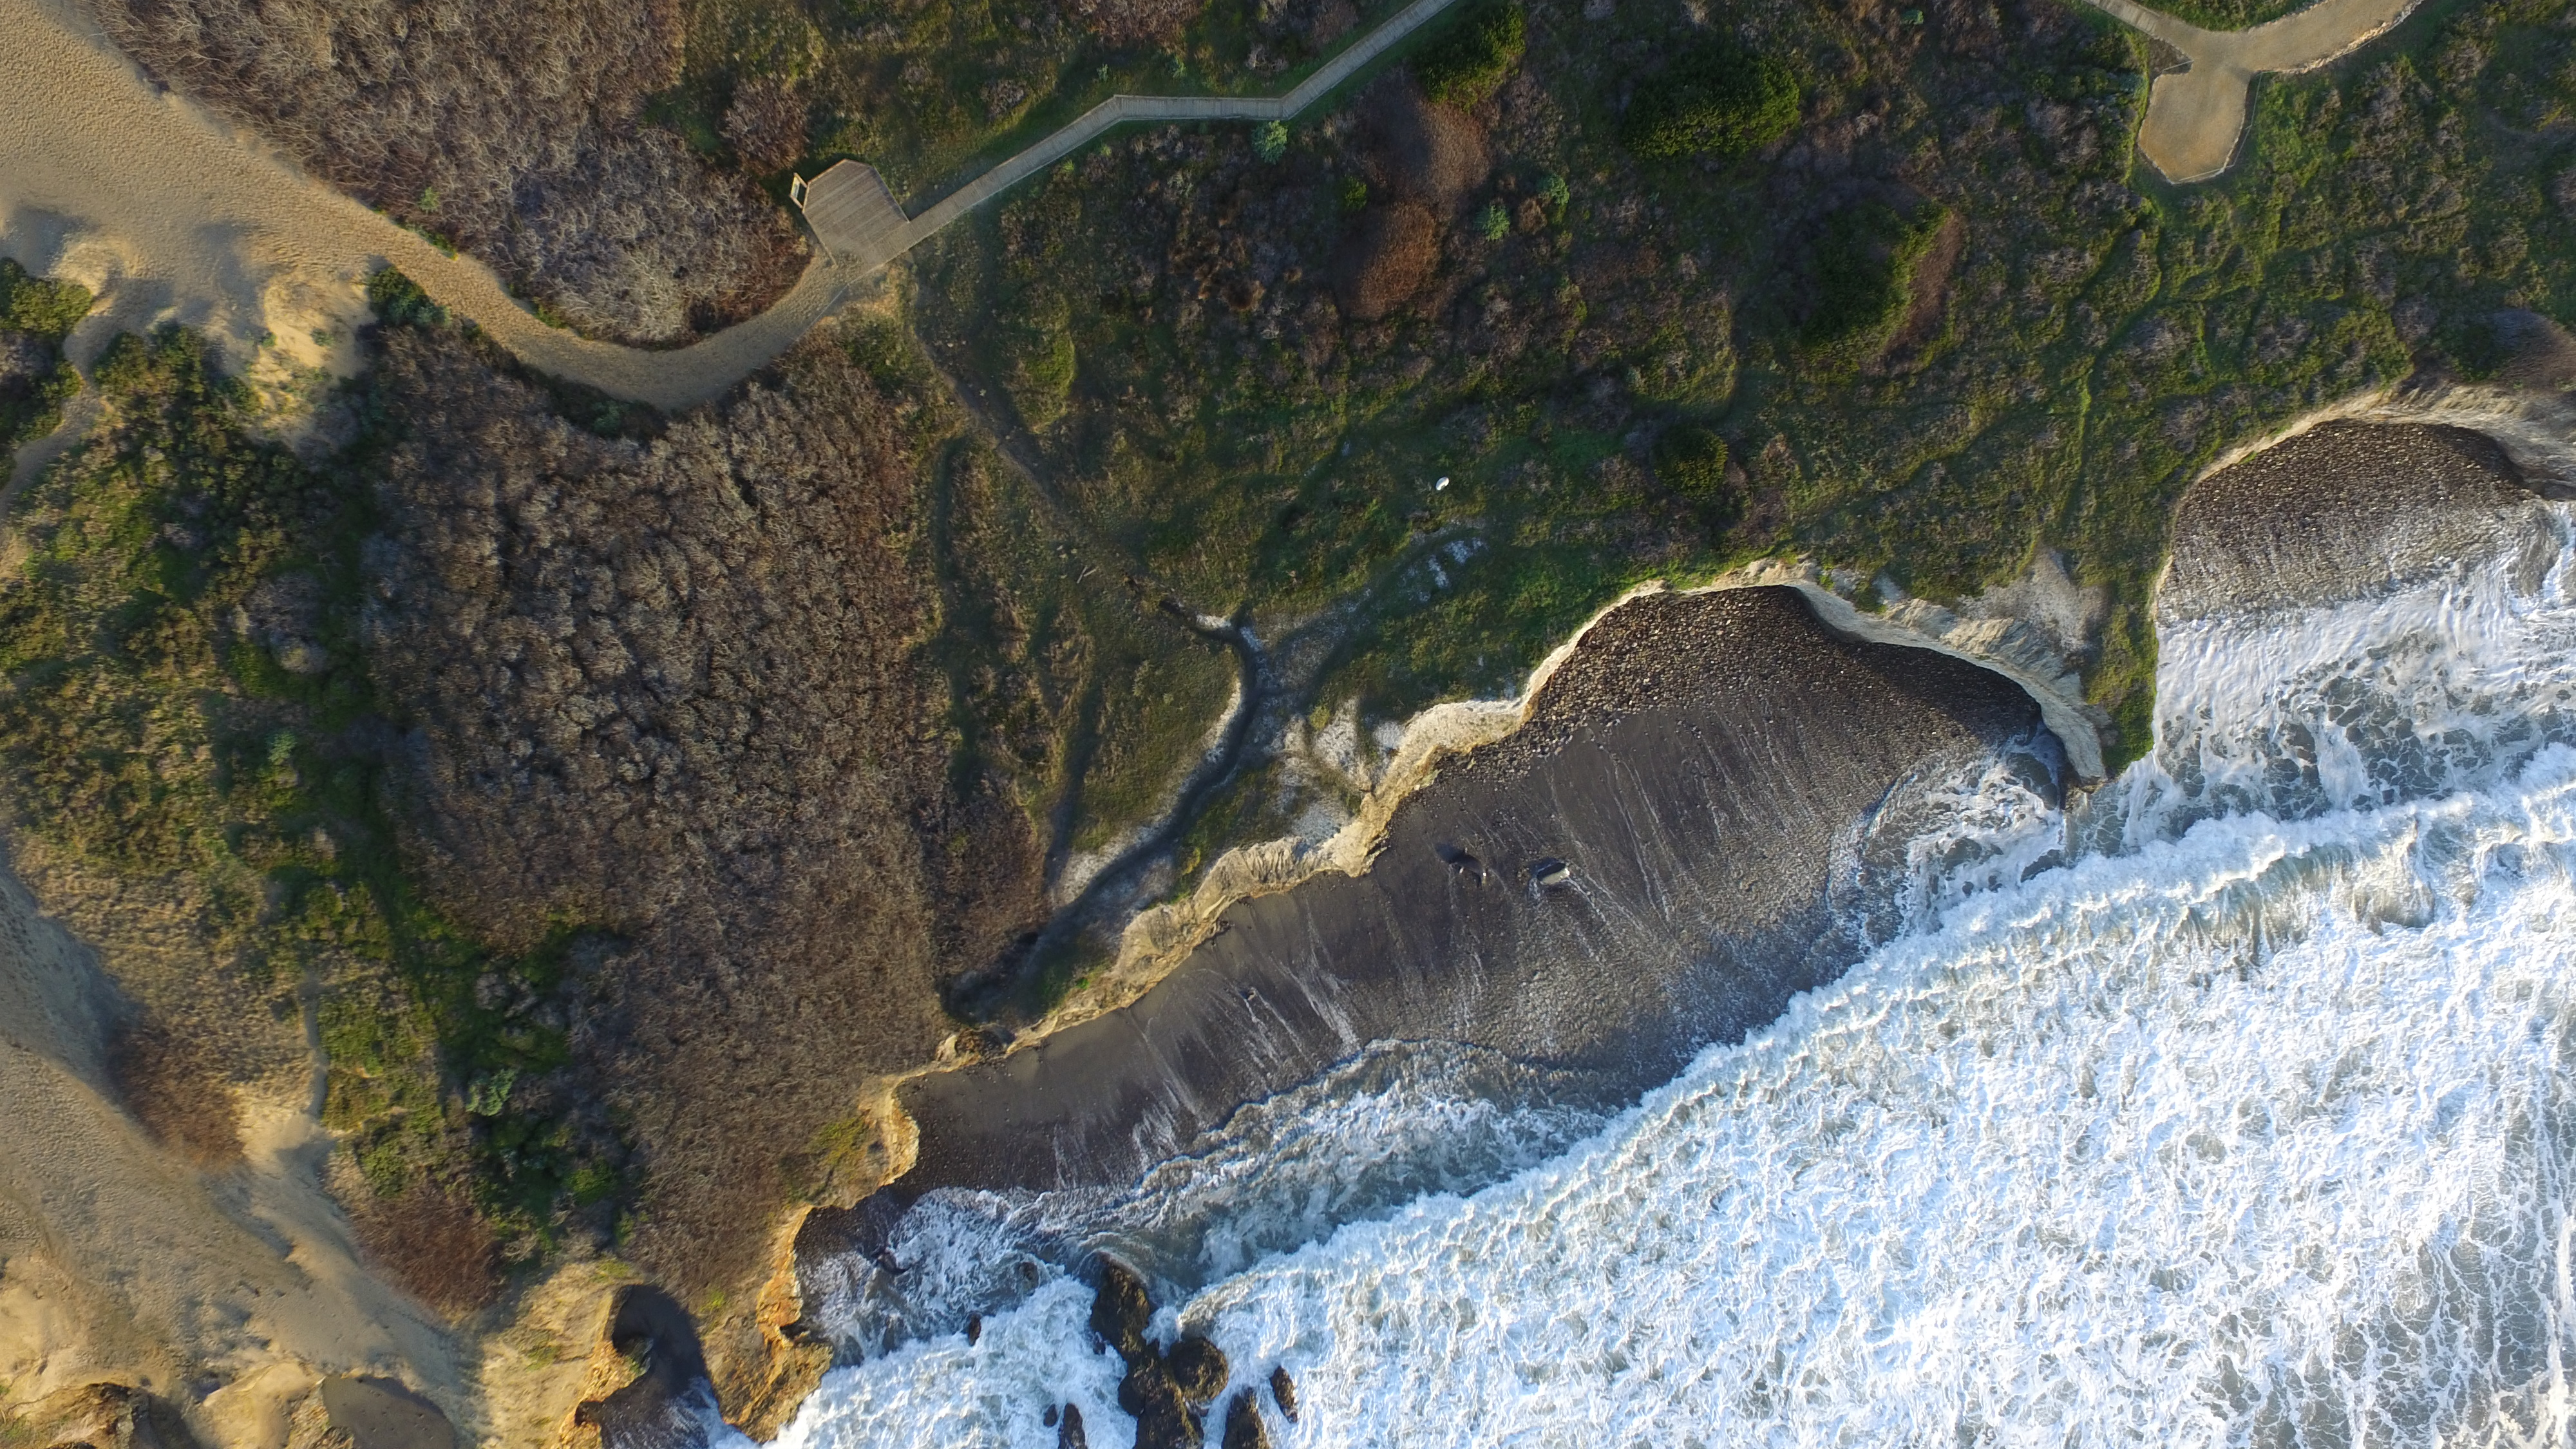adult male: (1442, 844, 1493, 888), (865, 1244, 911, 1277)
